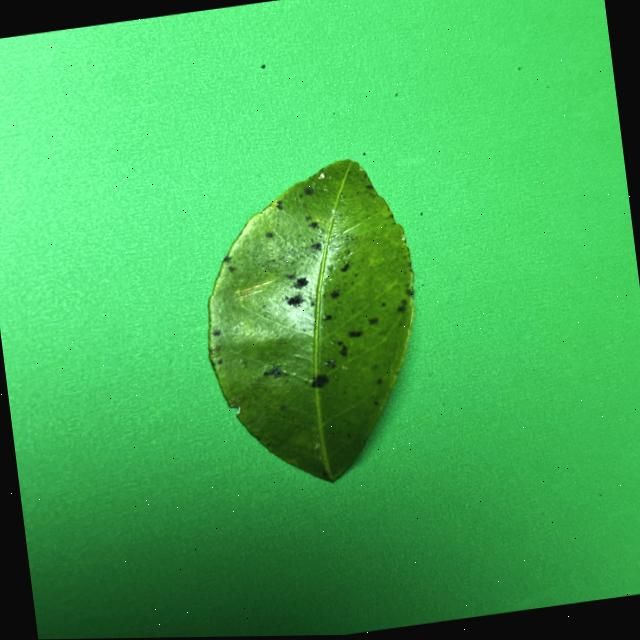sooty_mold: (208, 159, 412, 480)
